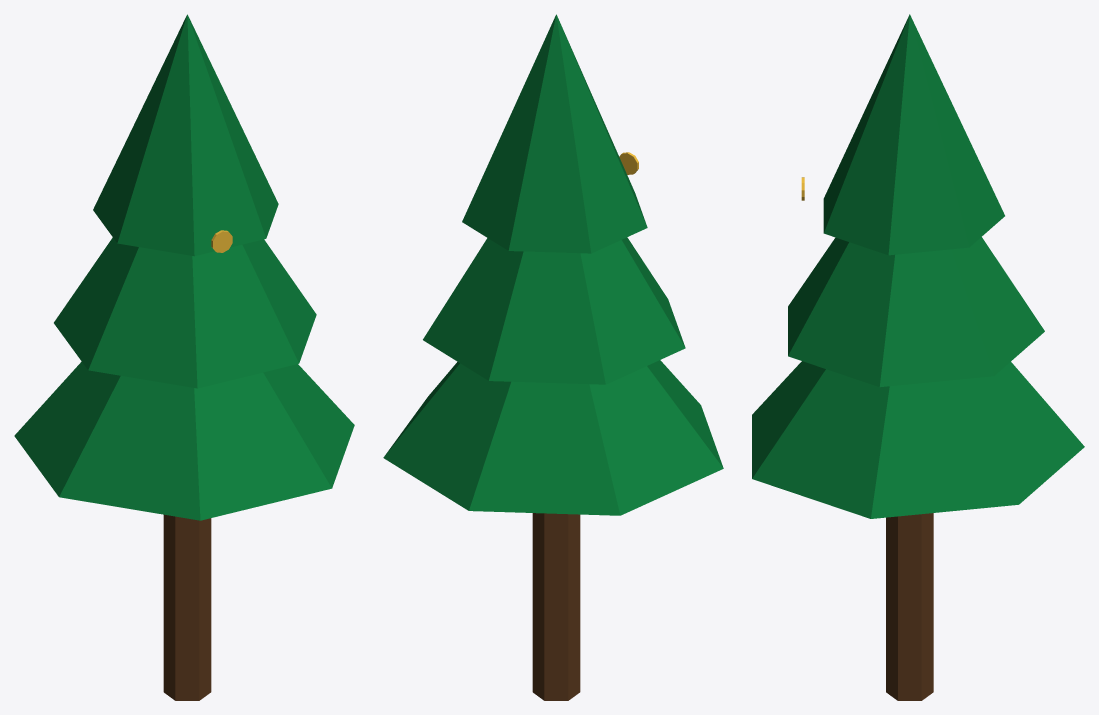
File: Prop_OR_LedgerTree_02.glb
The picture shows the model from 3 angles, left to right: view 1: azimuth 30°, elevation 25°; view 2: azimuth 150°, elevation 25°; view 3: azimuth 270°, elevation 25°; orthographic projection.
Parts seen in each view (by area): view 1: Prop_OR_LedgerTree_02; view 2: Prop_OR_LedgerTree_02; view 3: Prop_OR_LedgerTree_02.
Boxes of the visible parts, x1,y1,x2,y2 form: Prop_OR_LedgerTree_02: (14, 14, 354, 700); Prop_OR_LedgerTree_02: (383, 14, 723, 700); Prop_OR_LedgerTree_02: (752, 14, 1084, 700).
Size of the model in its own units: 2.14 by 4.7 by 2.09.
